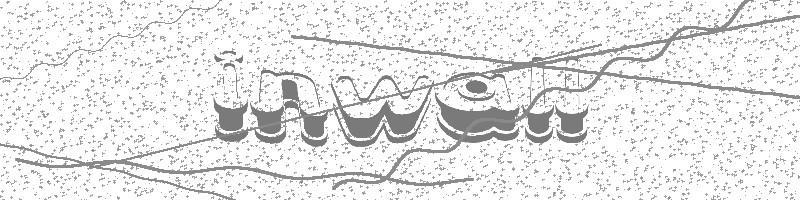a: (435, 71, 521, 144)
i: (210, 49, 250, 143)
l: (555, 52, 589, 144), (524, 56, 555, 146)
n: (251, 68, 330, 147)
w: (330, 73, 434, 149)
